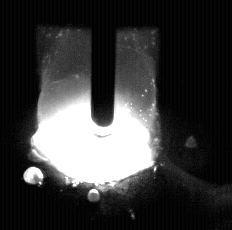arame: (93, 0, 115, 126)
poca: (38, 0, 159, 230)
